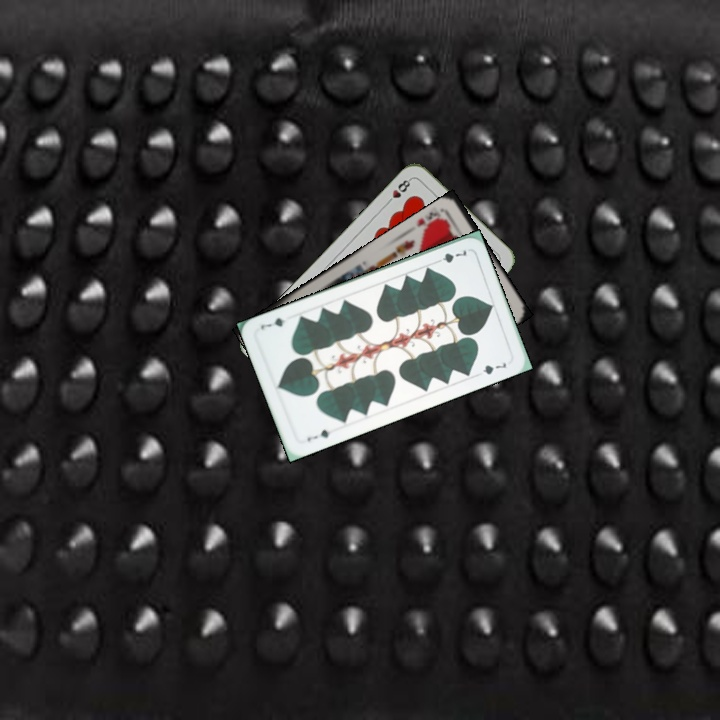G7: (431, 245, 469, 266), (303, 425, 333, 444)
H8: (382, 174, 414, 207)
HK: (413, 204, 450, 237)
